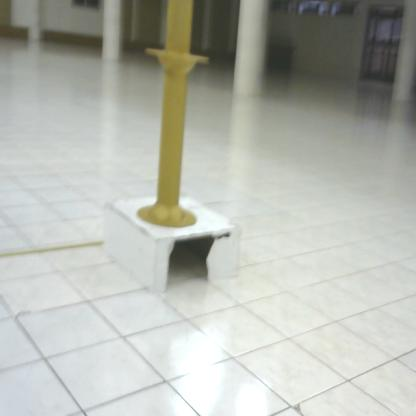pole: (129, 1, 213, 238)
